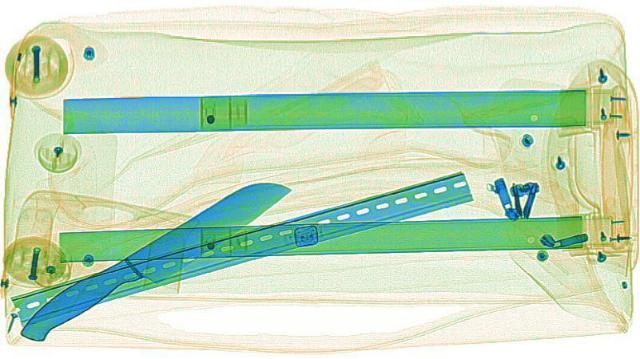Knife: (0, 174, 307, 342)
